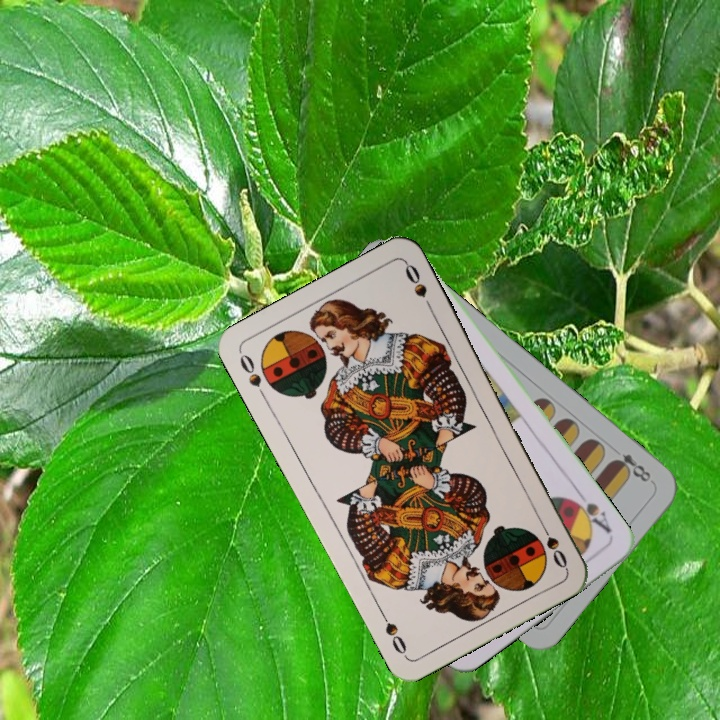E8: (607, 449, 654, 485)
SA: (566, 488, 614, 536)
SO: (535, 516, 570, 572), (235, 350, 270, 403)
